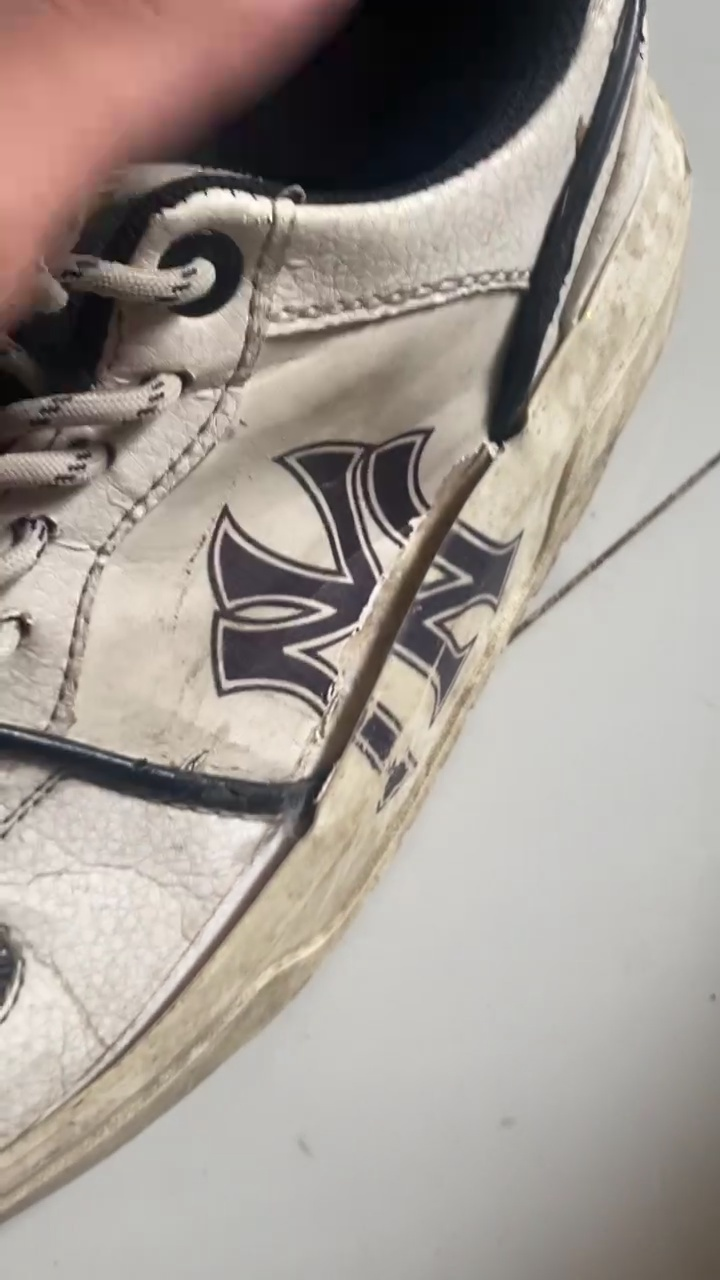bonding: (241, 719, 335, 912), (343, 581, 416, 762), (420, 440, 491, 598)
